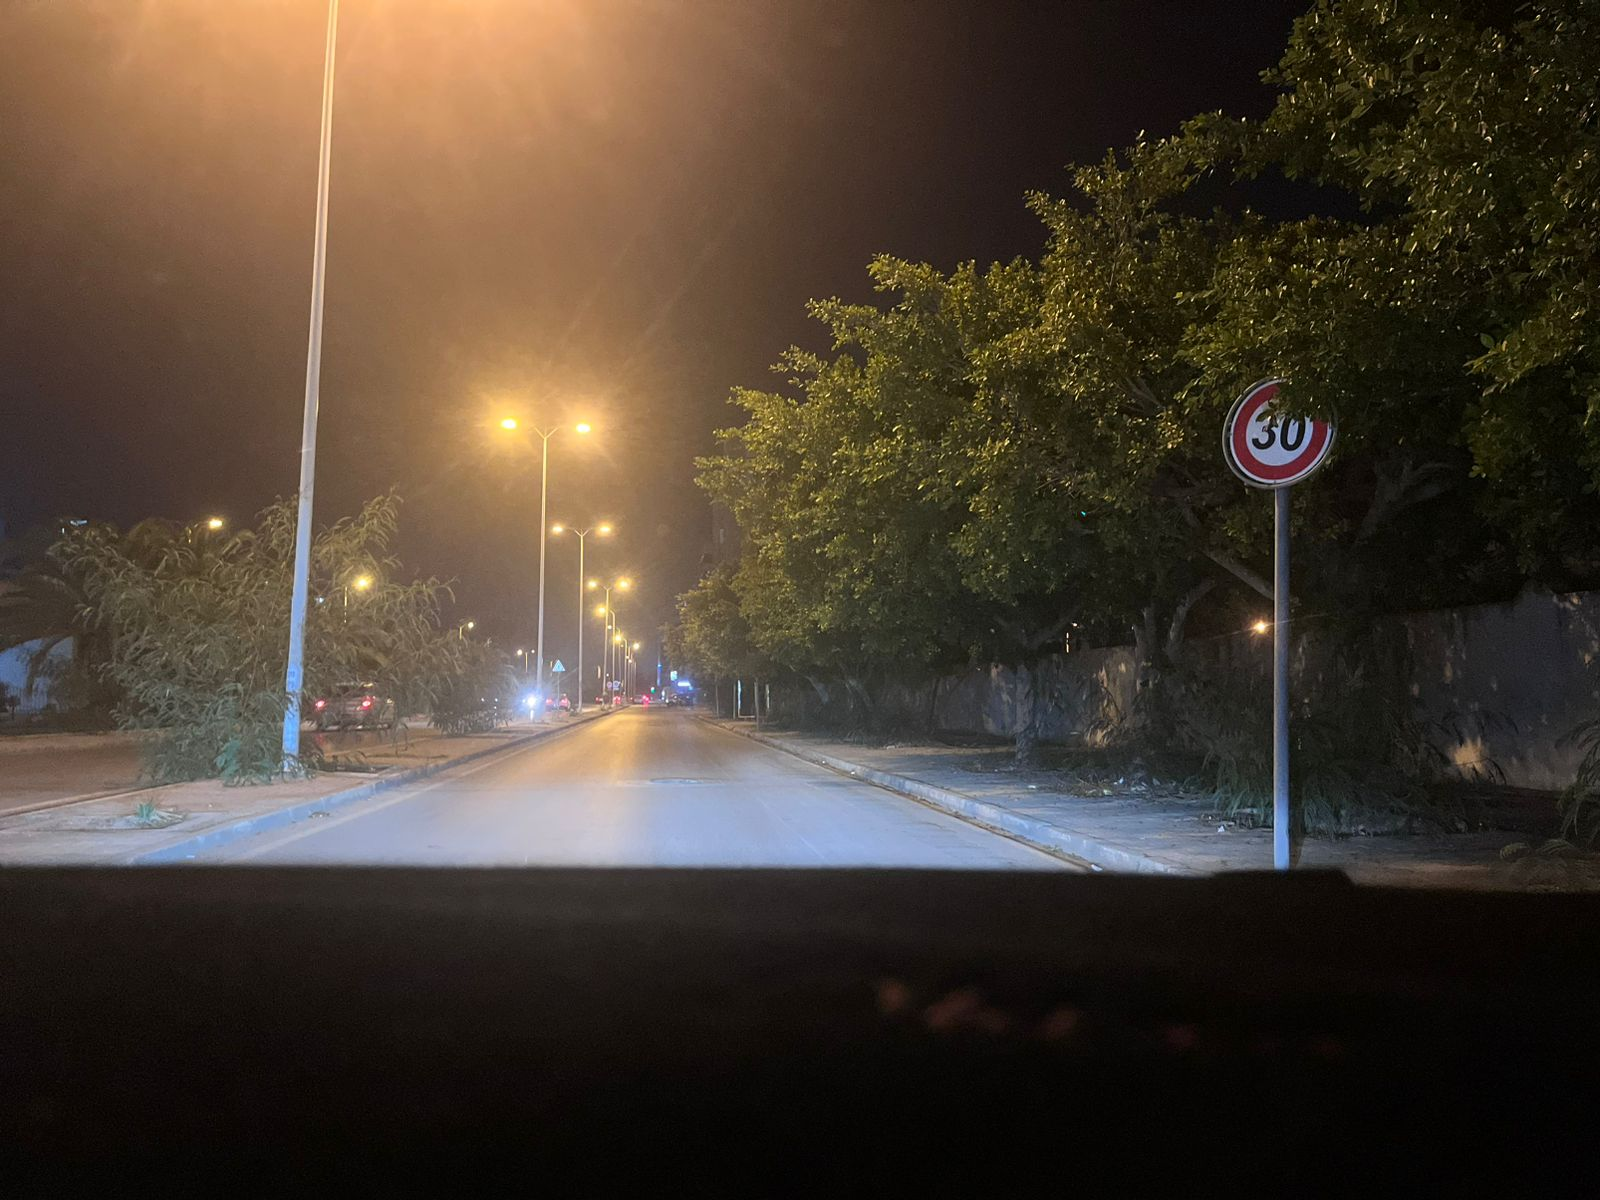SpeedLimit30: (1221, 372, 1332, 482)
